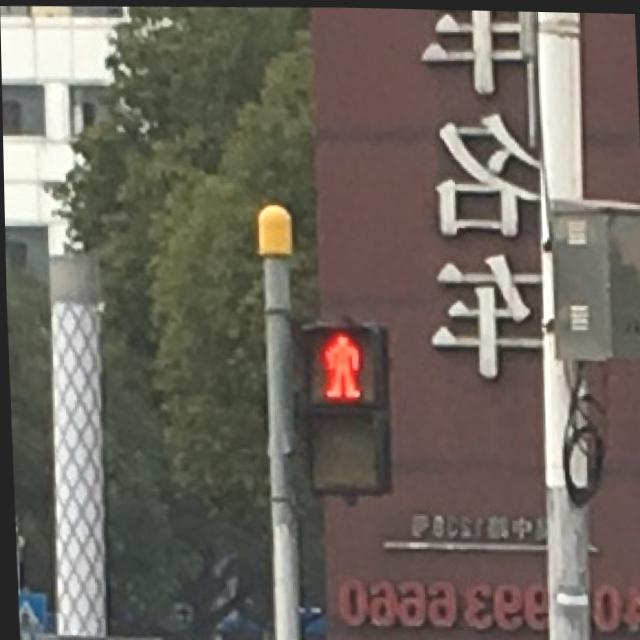red_light: (309, 321, 375, 400)
